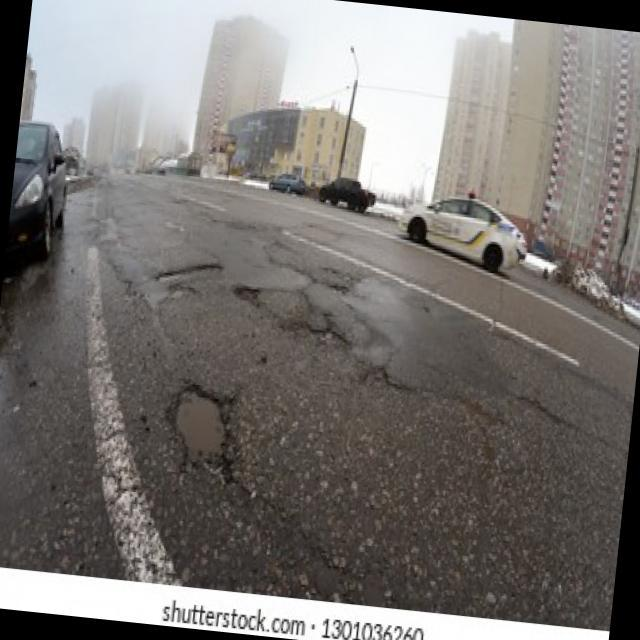Pothole: (163, 377, 244, 476), (158, 255, 222, 288), (358, 362, 392, 398), (296, 322, 348, 344), (232, 282, 260, 306), (328, 282, 346, 294)
